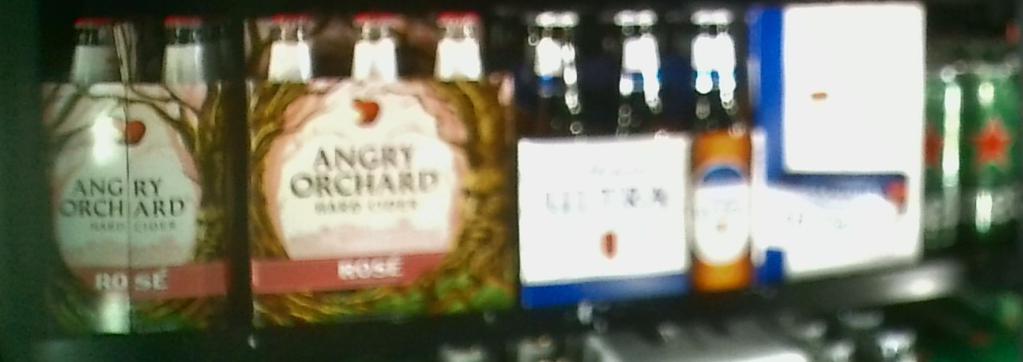bottle: (243, 11, 518, 327), (521, 6, 755, 309), (41, 16, 243, 337), (753, 5, 921, 277)
